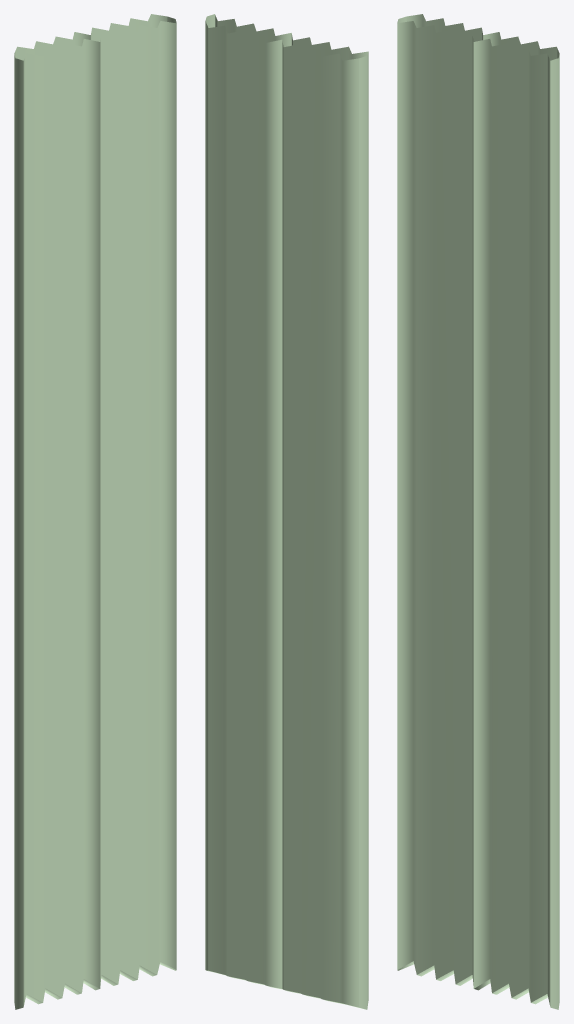
The model's file is Curtain_Model_SC.fbx.
3 views of the same model, side by side, from view 1: azimuth 30°, elevation 25°; view 2: azimuth 150°, elevation 25°; view 3: azimuth 330°, elevation 25° (orthographic).
Visible parts, largest first — view 1: pCube3; view 2: pCube3; view 3: pCube3.
Part boxes in pixels (<box>): pCube3: <box>14,14,176,1009</box>; pCube3: <box>205,14,368,1009</box>; pCube3: <box>397,14,559,1009</box>.
Size of the model in its own units: 0.7078 by 4.02 by 0.1291.
